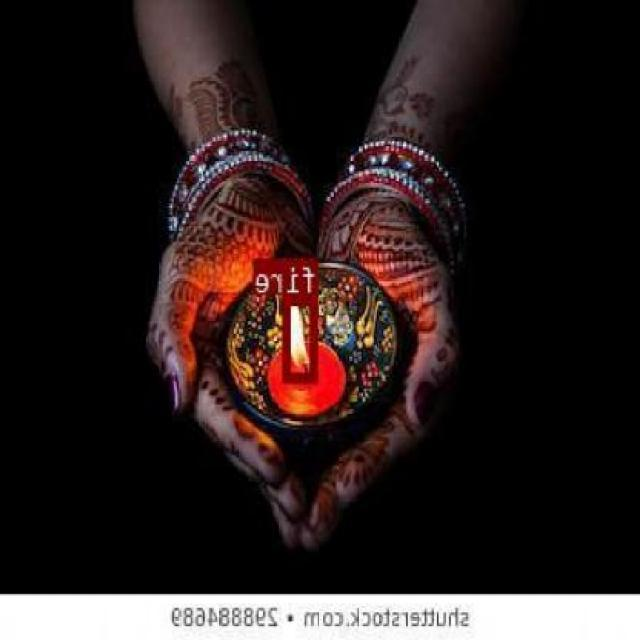fire: (286, 294, 319, 382)
